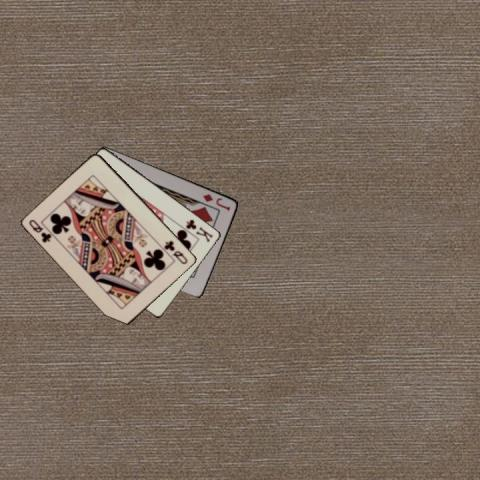Jd: (200, 191, 232, 212)
Kc: (183, 216, 215, 243)
Qc: (162, 237, 190, 266), (26, 217, 53, 244)
